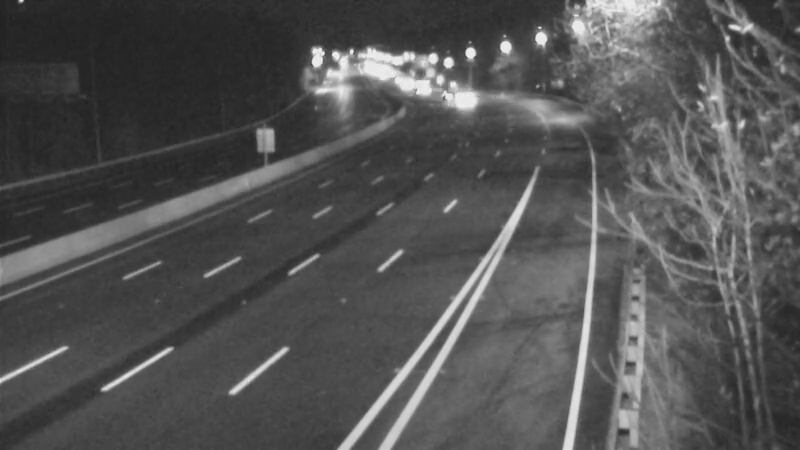vehicle: (424, 61, 474, 111), (395, 62, 445, 112), (437, 75, 487, 125)
